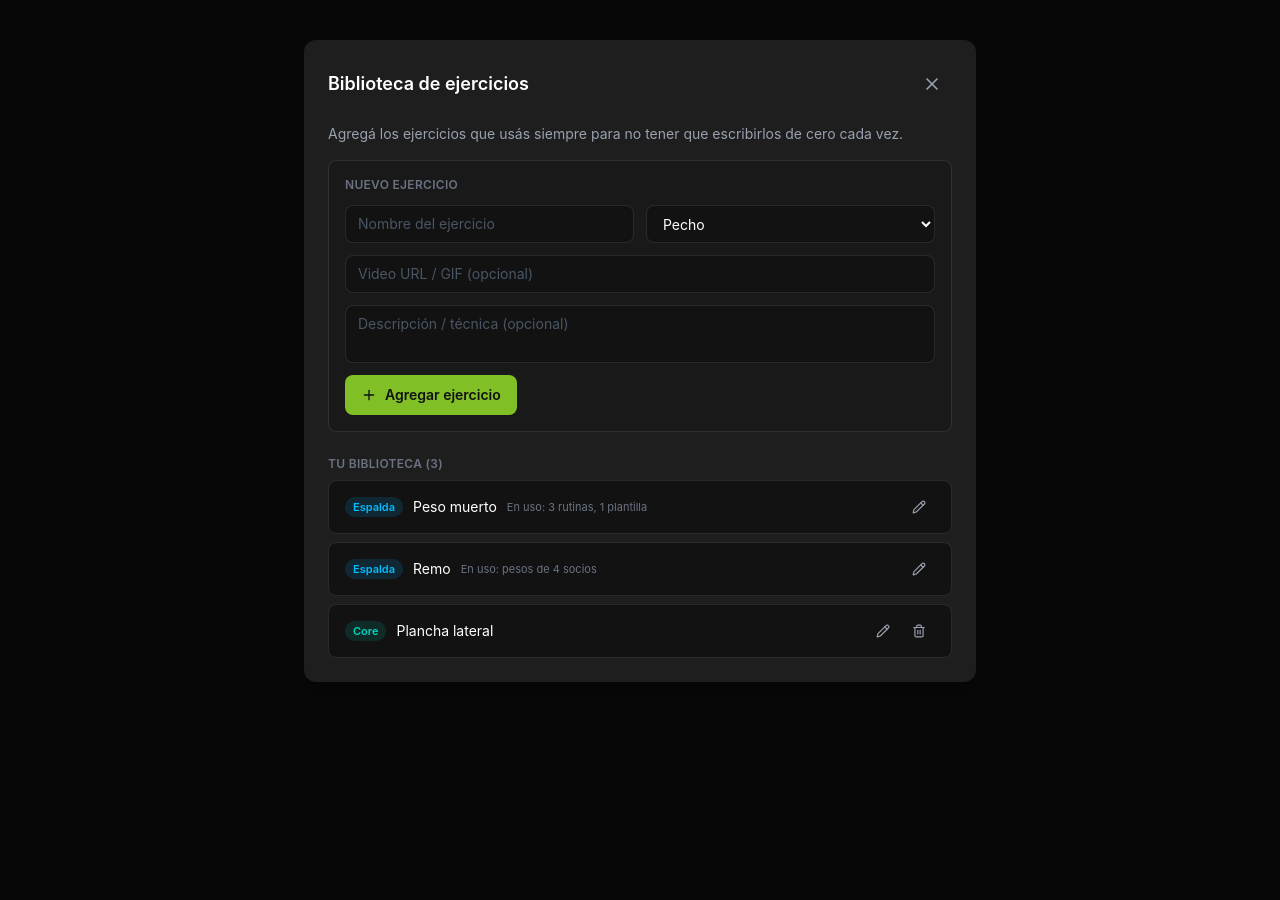
Test case: Biblioteca -- borrar un ejercicio sin uso › si el chequeo previo falla, no borra a ciegas y avisa
Expected: the text "Peso muerto" is shown, [413, 497, 497, 517]
Click the button named "Eliminar Plancha lateral".
click(919, 631)  # box [903, 615, 935, 647]
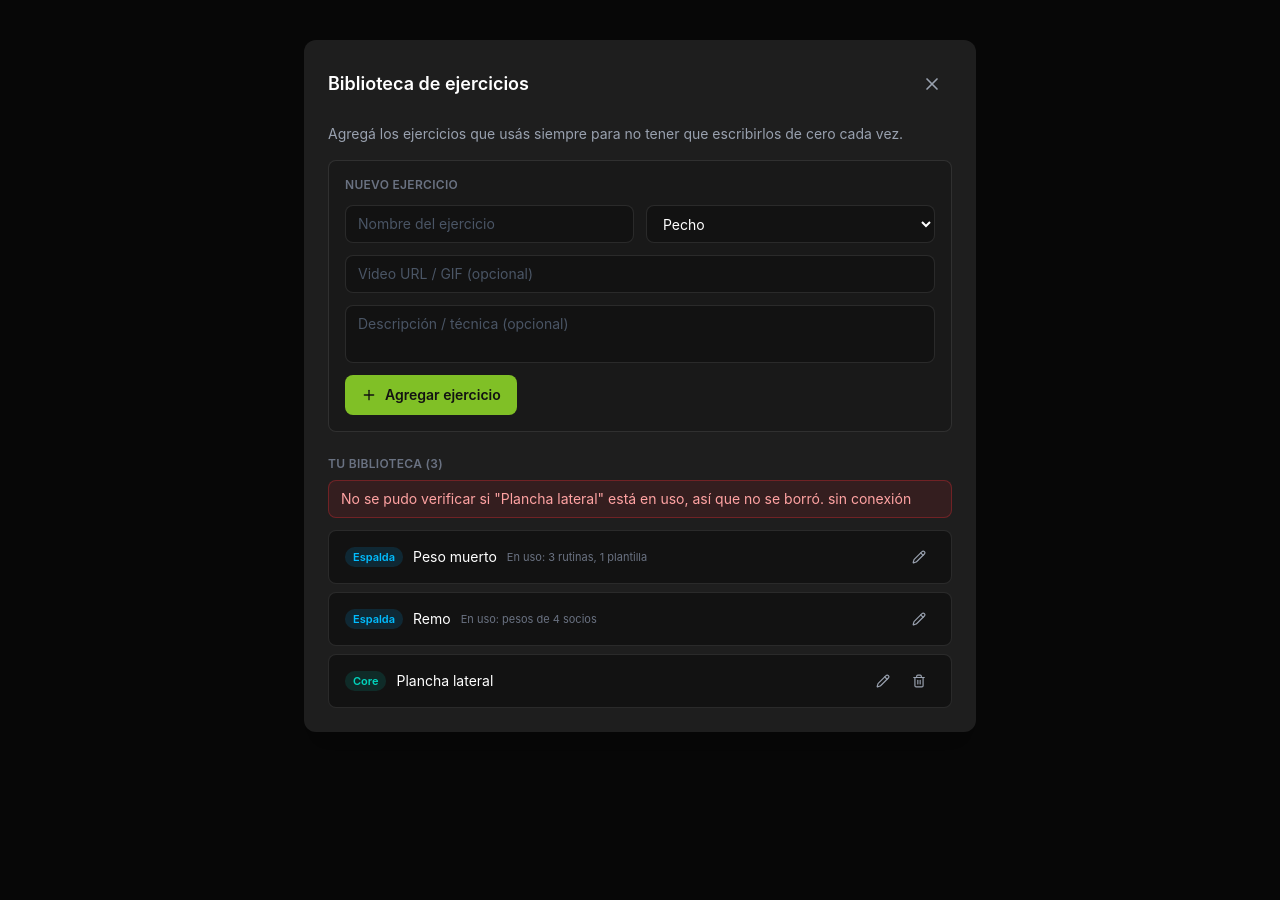
Expected: the message shows "No se pudo verificar si \"Plancha lateral\" está en uso", [341, 490, 911, 507]
